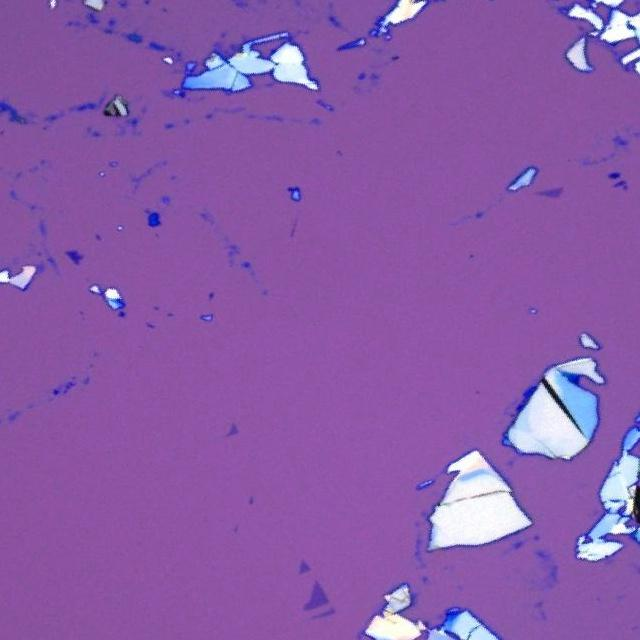monolayer-eWW4: (301, 580, 332, 610), (534, 186, 563, 200), (312, 606, 337, 619), (298, 559, 311, 575)
